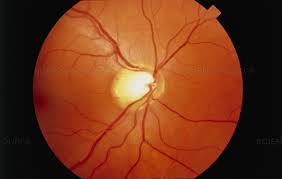Glaucoma section-1: (129, 73, 149, 95)
Glaucoma section-2: (113, 66, 164, 108)
